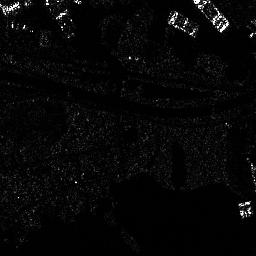ship: (165, 7, 199, 38)
